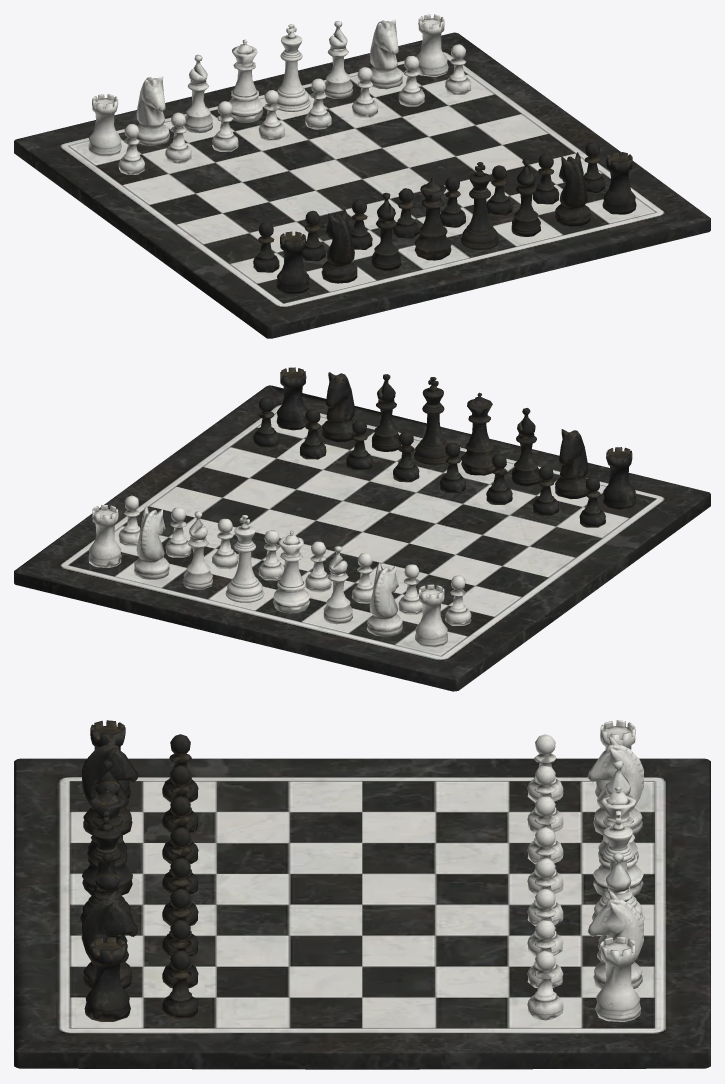
Rendered from chess_set.glb.
The picture shows the model from 3 angles, top to bottom: view 1: azimuth 30°, elevation 25°; view 2: azimuth 150°, elevation 25°; view 3: azimuth 270°, elevation 25°; orthographic projection. The views are drawn at different scales.
Visible parts, largest first — view 1: board, piece_rook_black_01, piece_rook_white_01, piece_king_black, piece_king_white; view 2: board, piece_rook_white_01, piece_rook_black_01, piece_king_white, piece_king_black; view 3: board, piece_rook_black_01, piece_rook_white_01, piece_king_black, piece_king_white.
Boxes of the visible parts, left/top/right/bottom form: board: left=14, top=32, right=710, bottom=338; piece_rook_black_01: left=253, top=143, right=636, bottom=294; piece_rook_white_01: left=88, top=14, right=471, bottom=174; piece_king_black: left=461, top=162, right=499, bottom=249; piece_king_white: left=276, top=24, right=310, bottom=111; board: left=14, top=385, right=710, bottom=691; piece_rook_white_01: left=88, top=495, right=471, bottom=647; piece_rook_black_01: left=253, top=367, right=635, bottom=527; piece_king_white: left=225, top=515, right=264, bottom=602; piece_king_black: left=414, top=377, right=448, bottom=464; board: left=14, top=758, right=710, bottom=1069; piece_rook_black_01: left=81, top=720, right=198, bottom=1021; piece_rook_white_01: left=527, top=720, right=643, bottom=1021; piece_king_black: left=80, top=811, right=132, bottom=922; piece_king_white: left=592, top=810, right=644, bottom=921.
Size of the model in its own units: 0.5526 by 0.1124 by 0.5519.
3 materials, 3 textured.
